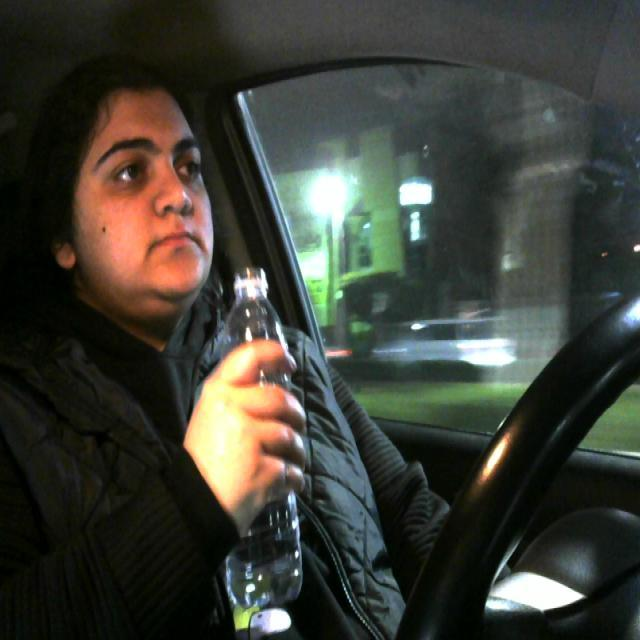Seatbelt: (215, 266, 308, 604)
